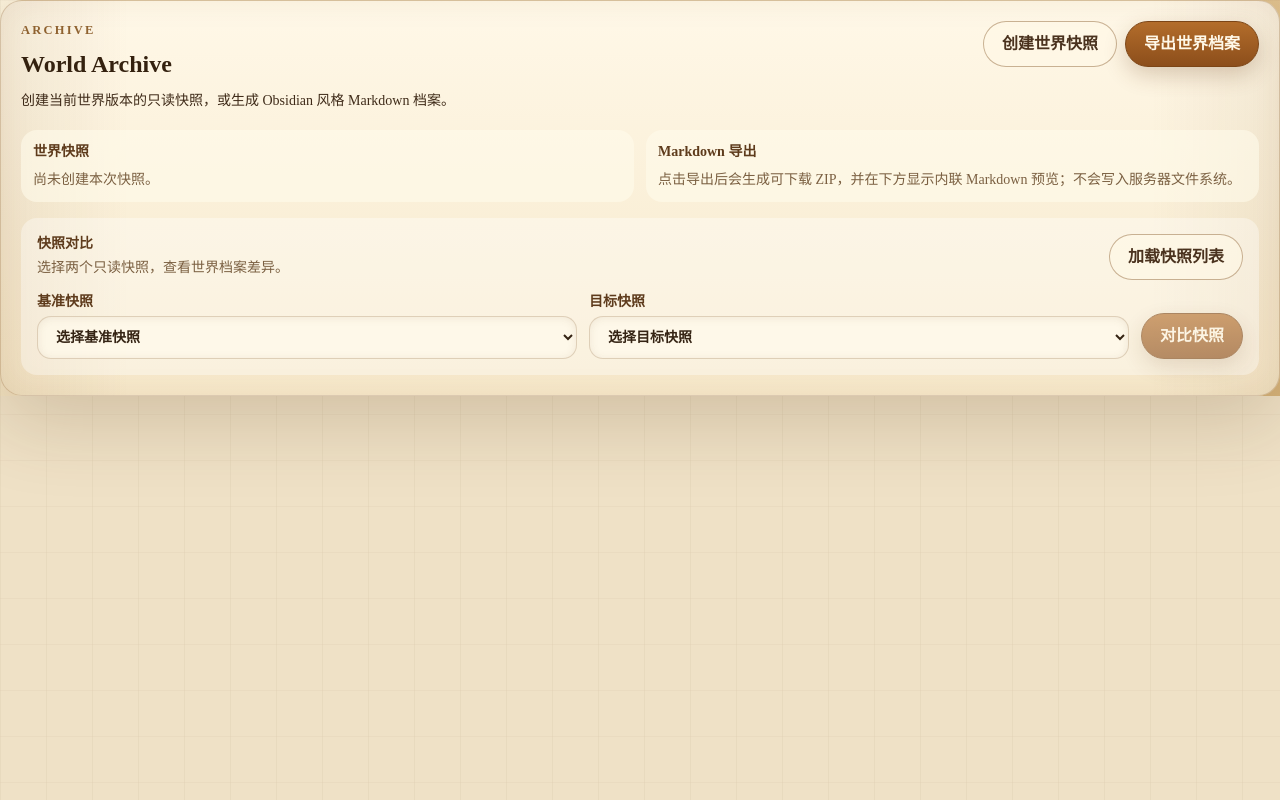
WorldArchivePanel › shows snapshot success state
Click the button "创建世界快照": (1050, 44) x1=983 y1=21 x2=1117 y2=67
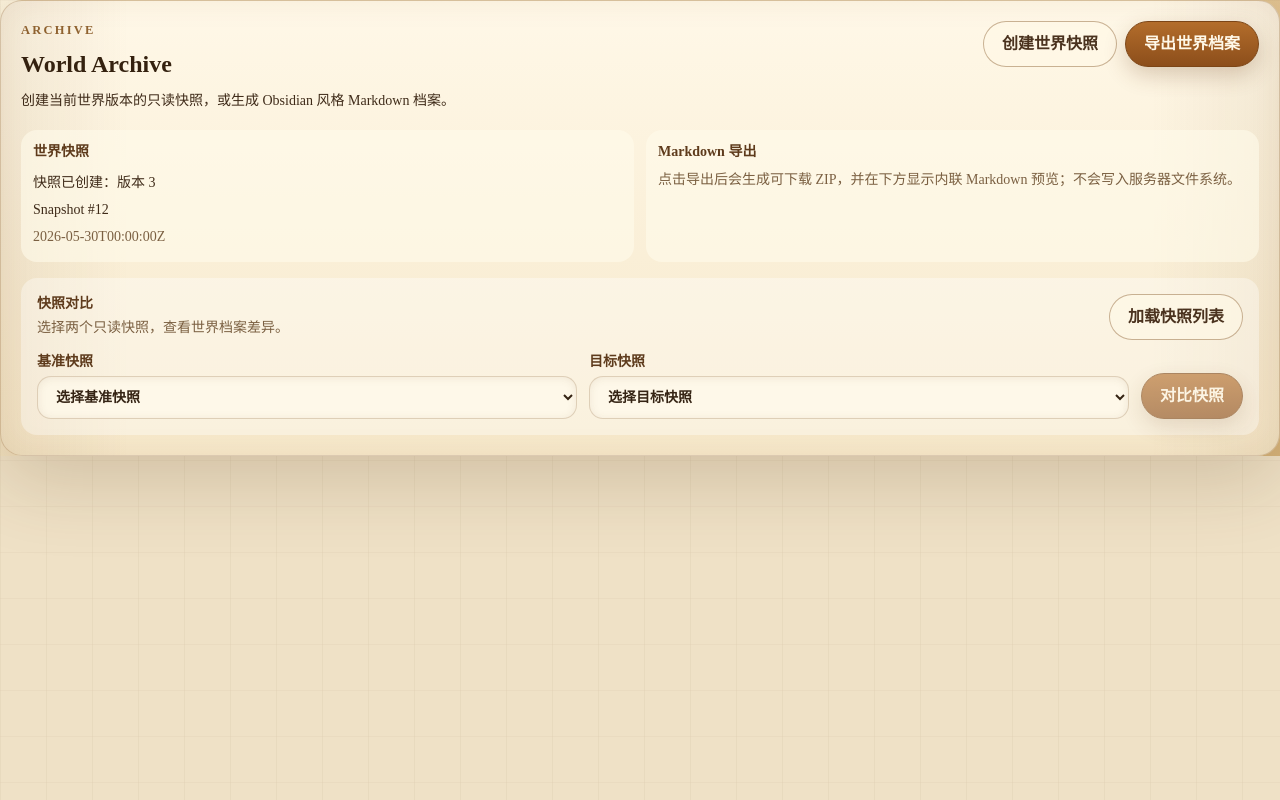
Expected: the text "快照已创建：版本 3" is shown, x1=33 y1=175 x2=156 y2=190
Expected: the text "Snapshot #12" is shown, x1=33 y1=202 x2=109 y2=217
